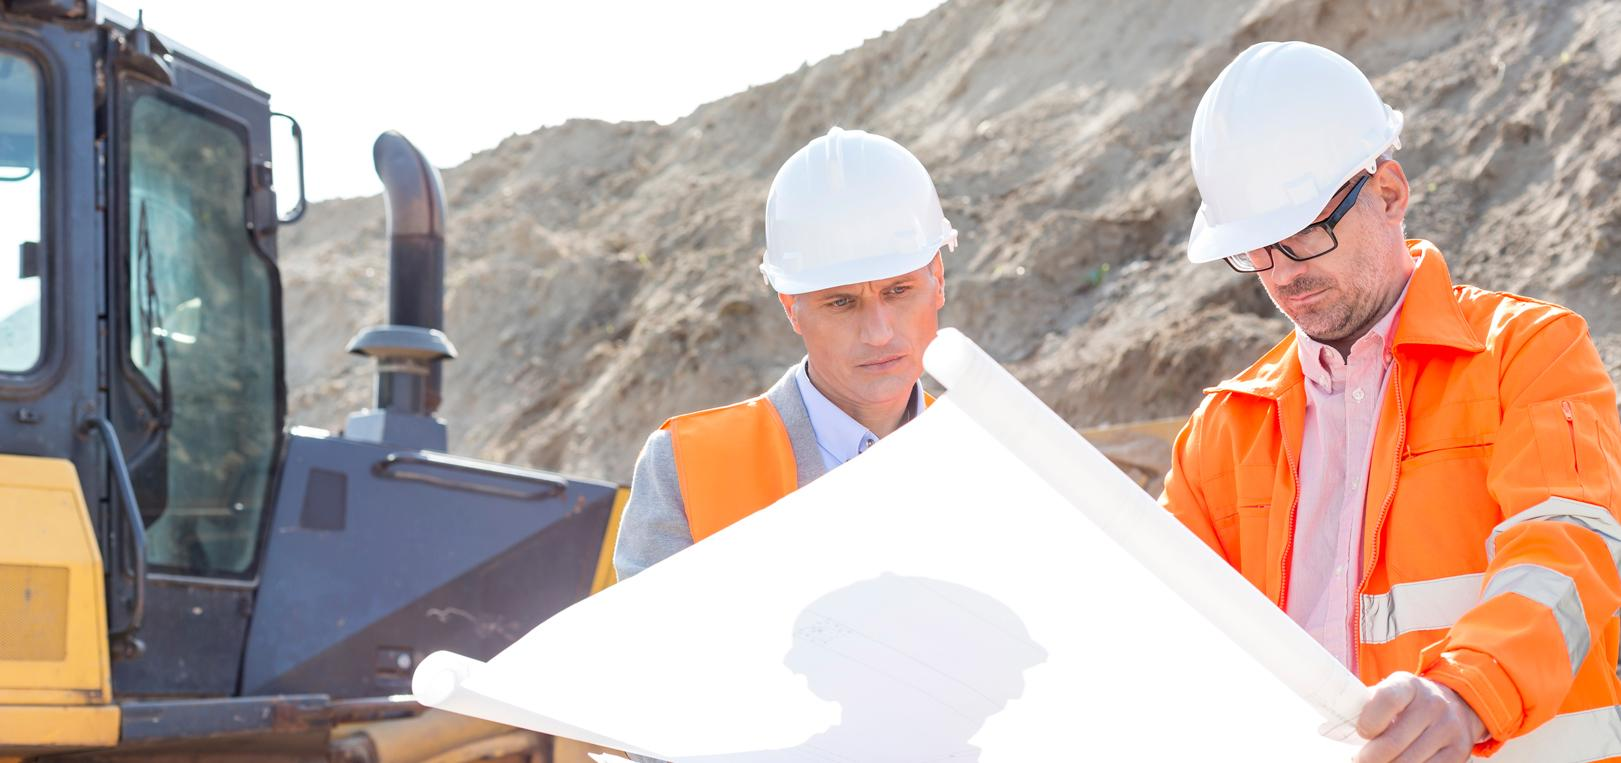helmet: (1187, 40, 1402, 265), (761, 129, 959, 297), (1022, 173, 1024, 175)
